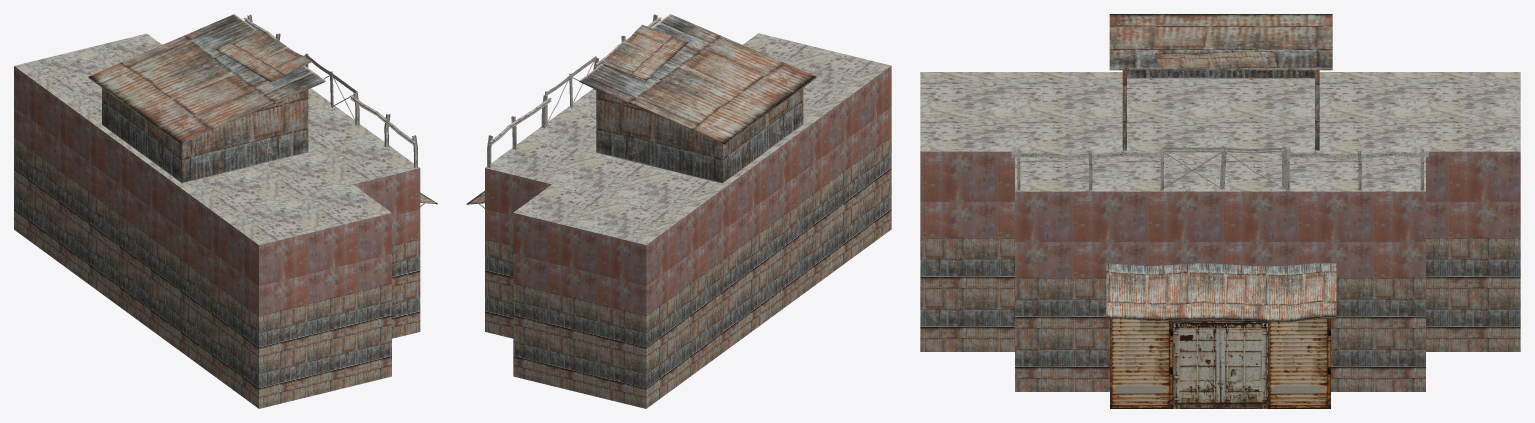
File: house01-LOD.fbx
3 renders of one model, left to right at view 1: azimuth 30°, elevation 25°; view 2: azimuth 150°, elevation 25°; view 3: azimuth 270°, elevation 25°, orthographic. The views are drawn at different scales.
Visible parts, largest first — view 1: Mesh; view 2: Mesh; view 3: Mesh.
Part boxes in pixels (left/top/right/bottom): Mesh: left=14, top=14, right=437, bottom=408; Mesh: left=466, top=14, right=891, bottom=408; Mesh: left=920, top=14, right=1520, bottom=408.
Size of the model in its own units: 1162 by 1024 by 1900.
